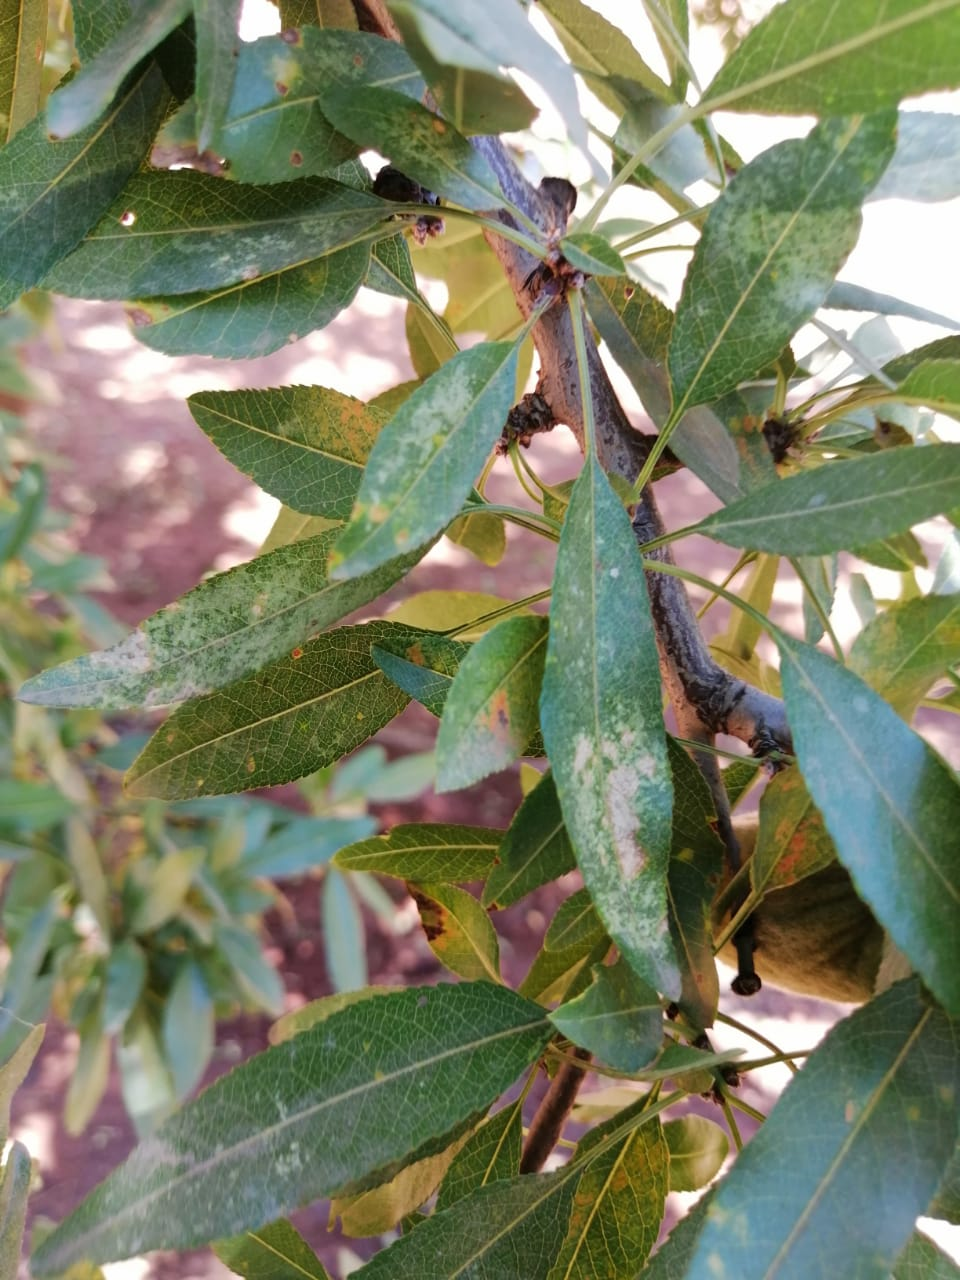faux tigre: (28, 977, 552, 1280), (534, 454, 688, 1002), (664, 90, 902, 429), (14, 526, 456, 708), (321, 338, 521, 580)
